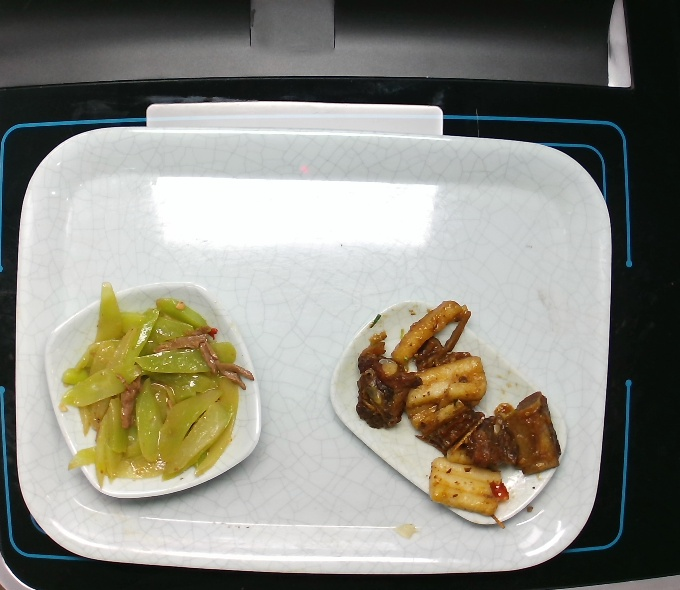wcq-NianGaoZaiPai: (350, 298, 564, 531)
wcq-WoSun: (55, 279, 256, 493)
